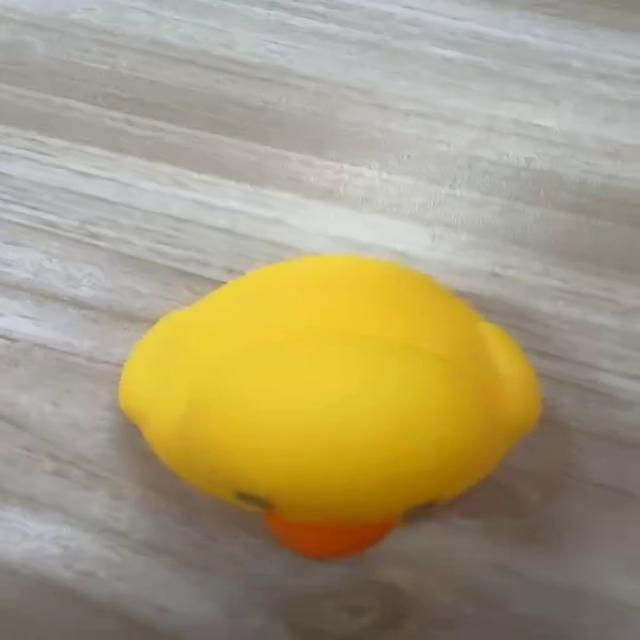yellow_duck: (115, 253, 544, 561)
